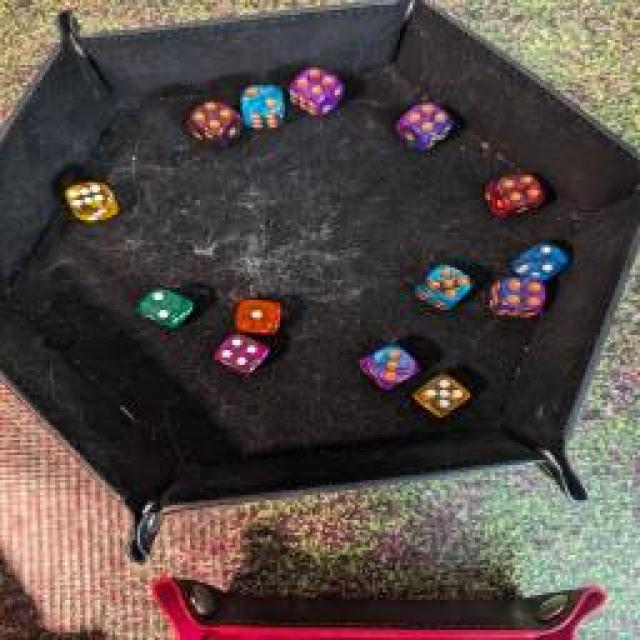dice_1: (229, 296, 286, 336)
dice_2: (235, 79, 290, 129), (135, 288, 195, 328), (510, 241, 565, 284)
dice_3: (356, 345, 416, 390)
dice_4: (480, 168, 550, 222), (184, 96, 248, 146), (288, 65, 348, 115), (394, 100, 454, 148), (486, 278, 552, 320), (211, 332, 271, 378)
dice_5: (412, 262, 472, 312), (412, 372, 476, 416)
dice_6: (56, 177, 122, 225)
